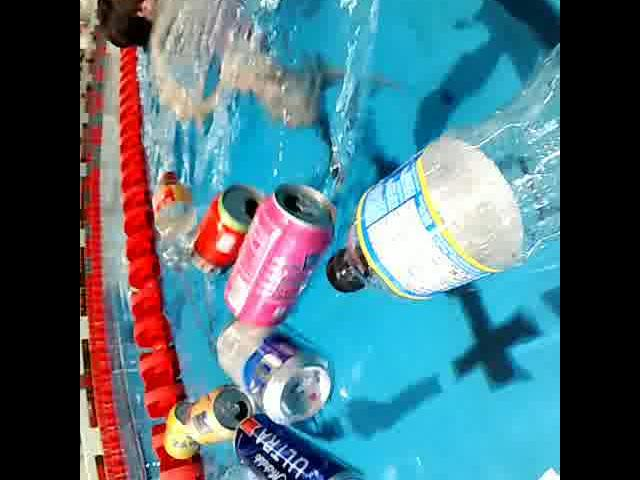Bottle: (315, 44, 560, 307), (152, 160, 198, 280)
Can: (222, 174, 338, 328), (218, 314, 338, 430), (235, 413, 373, 480), (185, 176, 265, 280), (184, 378, 250, 448), (164, 393, 198, 461)
